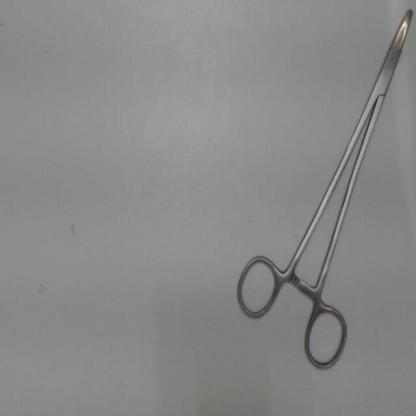8 Mayo Needle Holder: (226, 2, 416, 380)
